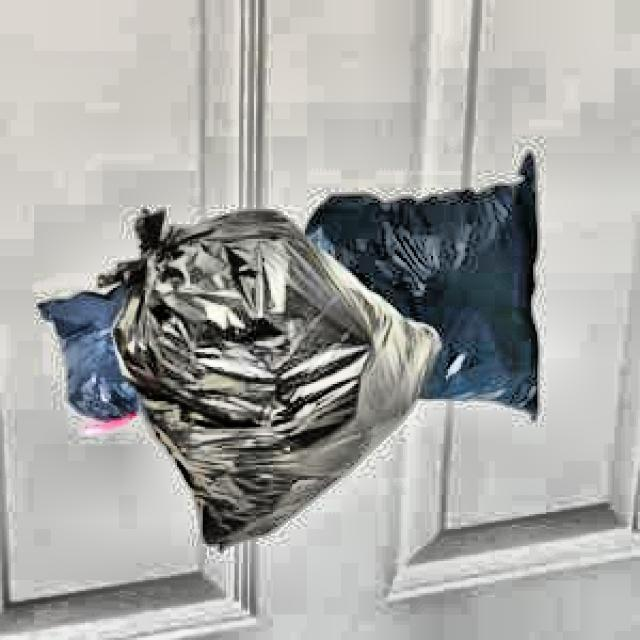Trashbag: (124, 202, 446, 559), (28, 290, 138, 434)
